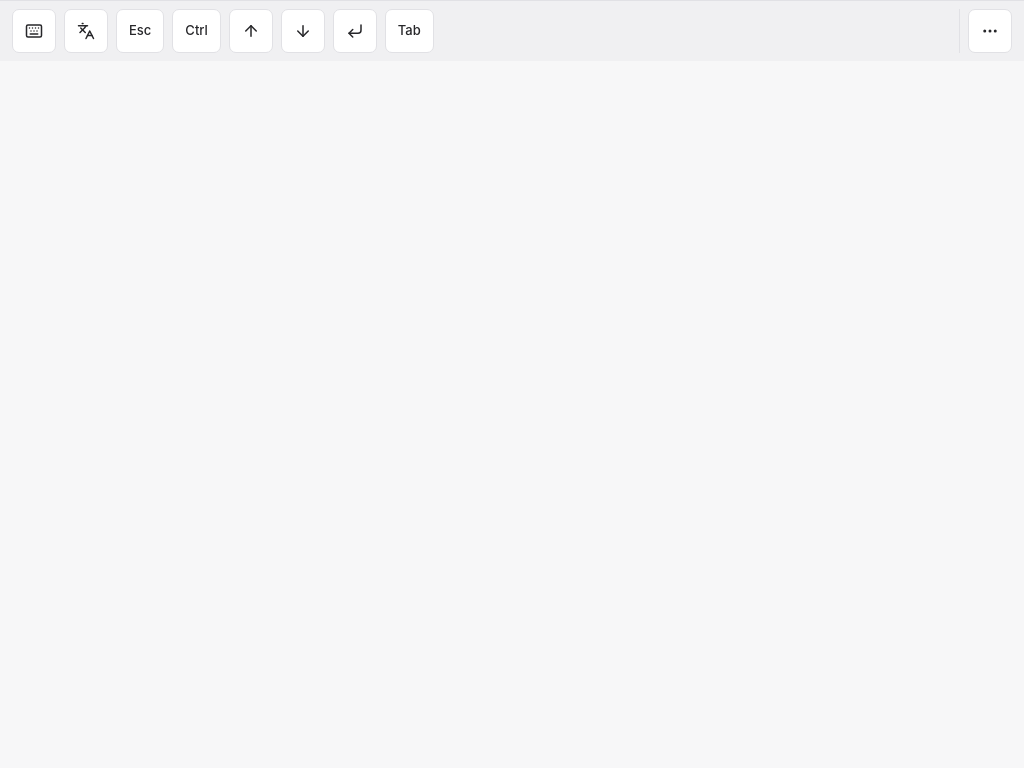
it: KeyboardToolbar › Expanded panel layout › shows expanded panel when More key clicked
Click the button named "Extra keys": (990, 31) [968, 9, 1012, 53]
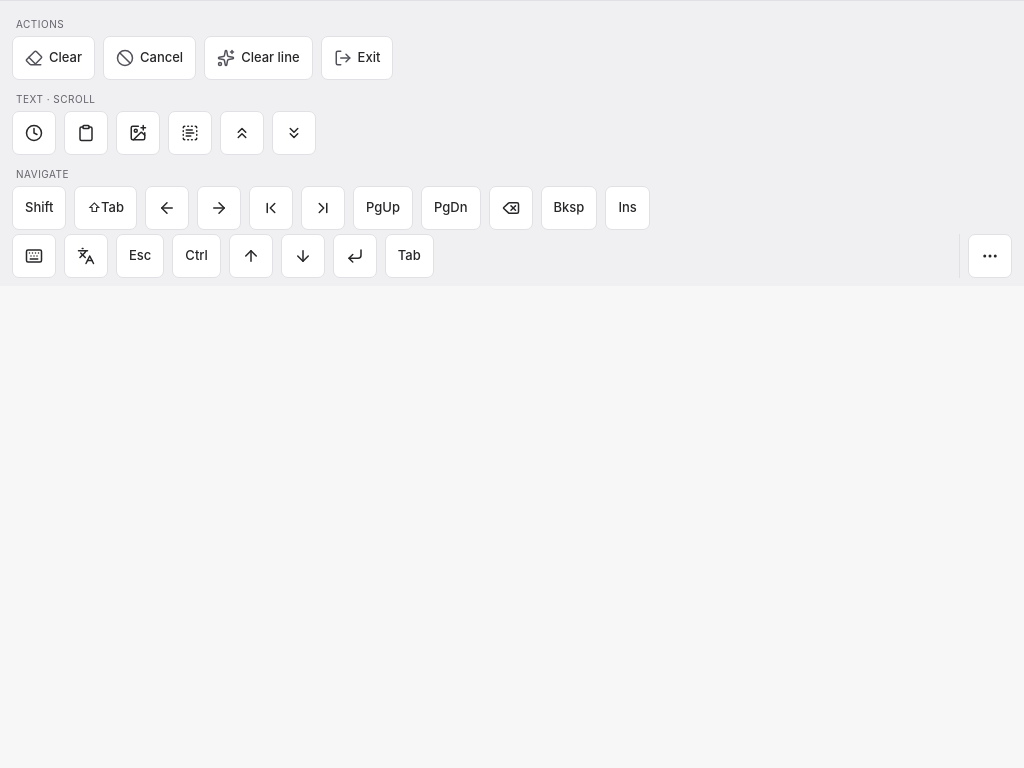
Check: the text "Actions" is shown, box [16, 18, 64, 30]
Check: the text "Navigate" is shown, box [16, 168, 69, 180]
Check: the text "Text · Scroll" is shown, box [16, 93, 96, 105]
